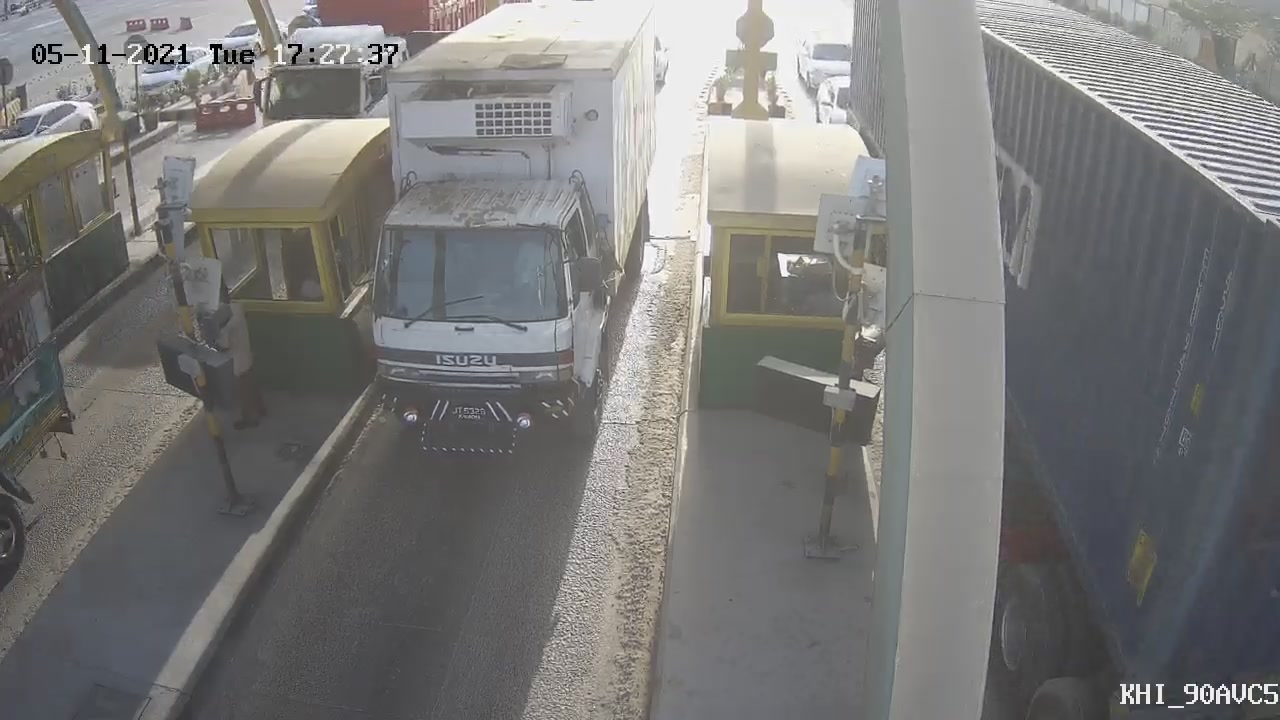F5: (298, 1, 691, 484)
